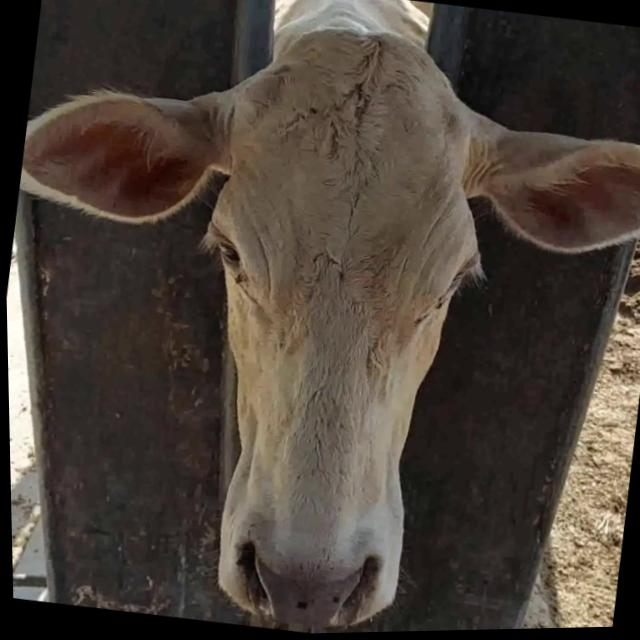cowFace: (154, 11, 510, 637)
